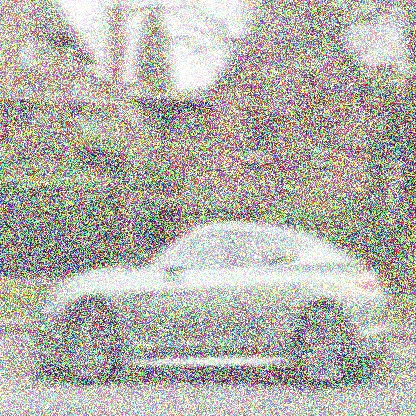Vehicle: (35, 222, 391, 388)
